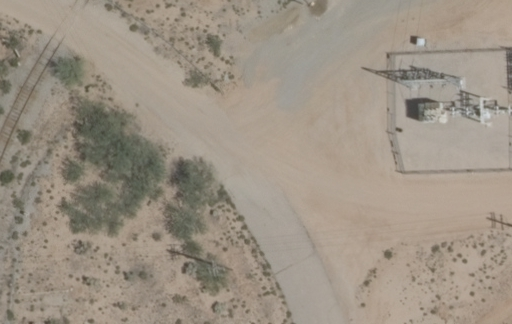DT: (200, 258, 233, 276)
